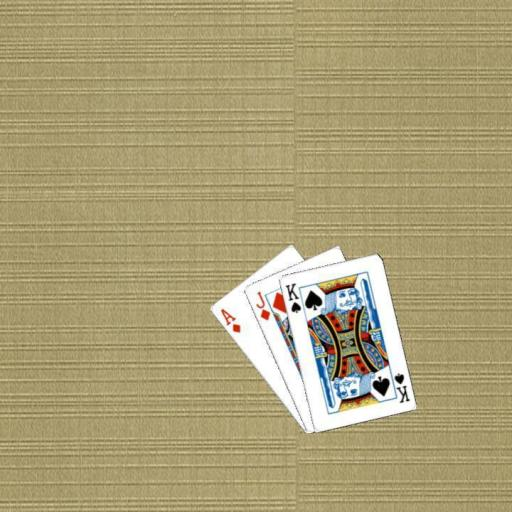card-corner: (387, 368, 411, 404), (217, 305, 242, 334), (252, 288, 272, 322), (282, 280, 302, 314)
